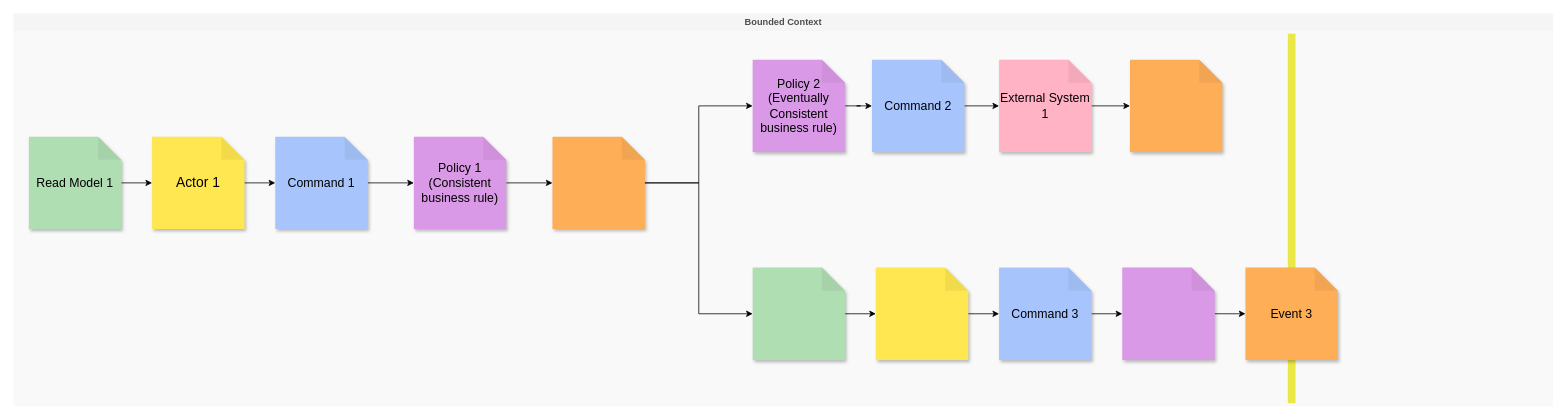
Image size: 1566x419. Some labels were removed from this diagram. The shapes that lost their labels are listed below. From the top down, each one's centre as x and y in pixels, then its label:
At point 1177,106: "Event 2".
At point 599,183: "Event 1".
At point 799,314: "Read Model 2".
At point 922,314: "Actor 2".
At point 1169,314: "Policy 3 (Consistent business rule)".
